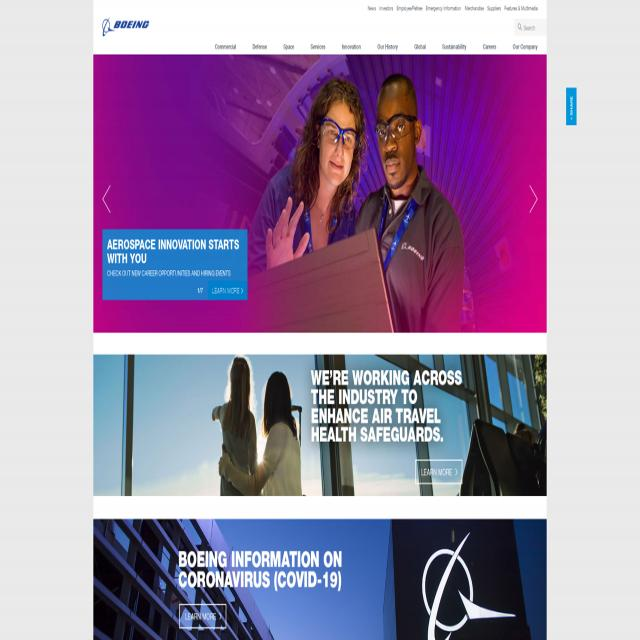button: (102, 230, 246, 300), (415, 460, 463, 484), (179, 605, 226, 627), (103, 16, 149, 36), (524, 180, 541, 220), (100, 181, 114, 219), (566, 88, 576, 126)
field: (514, 18, 547, 36)
